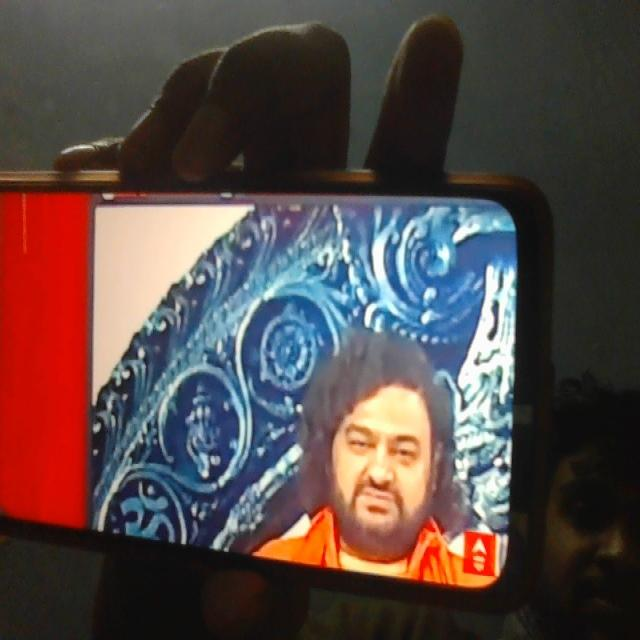fake: (316, 310, 445, 554)
